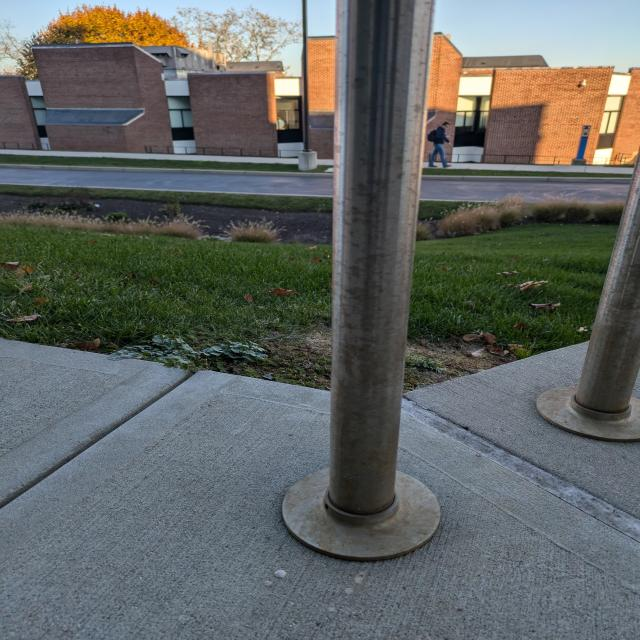Uniform Corrosion: (284, 1, 440, 561), (537, 160, 640, 442)
